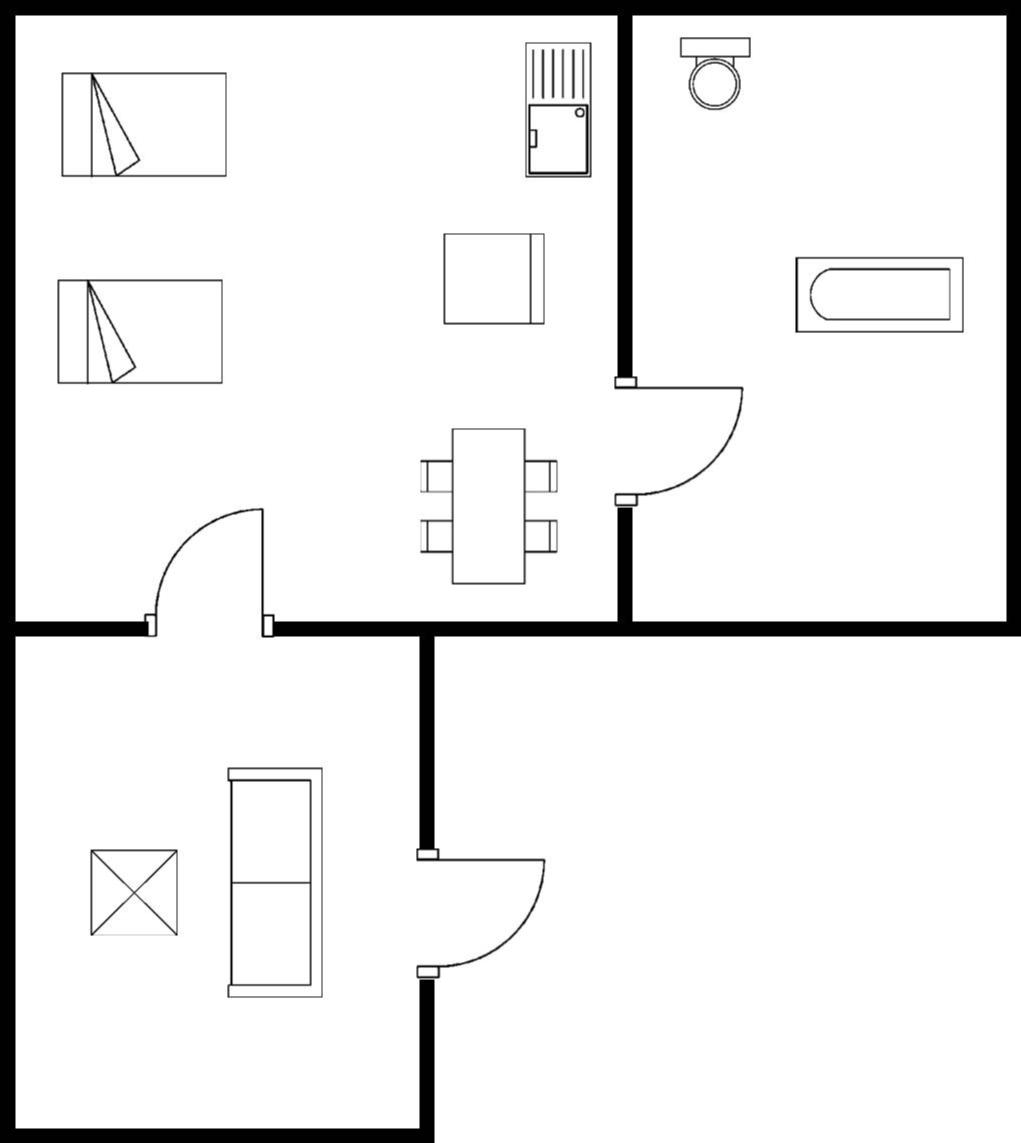bed: (48, 270, 228, 391), (55, 67, 233, 185)
dining_table: (414, 417, 563, 591)
sink: (517, 35, 598, 184)
sofa: (214, 759, 335, 1007)
toilet: (670, 29, 755, 116)
tub: (788, 249, 973, 344)
